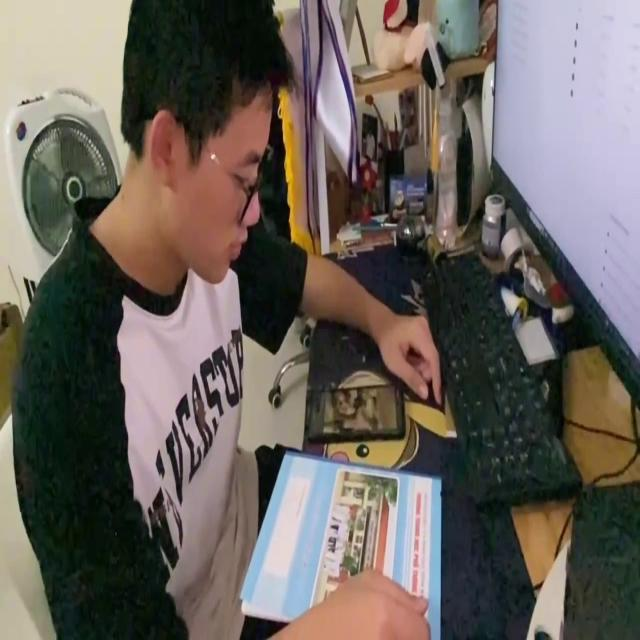book: (234, 446, 444, 640)
laptop: (489, 0, 640, 405)
phone: (304, 379, 406, 446)
student: (13, 0, 443, 640)
